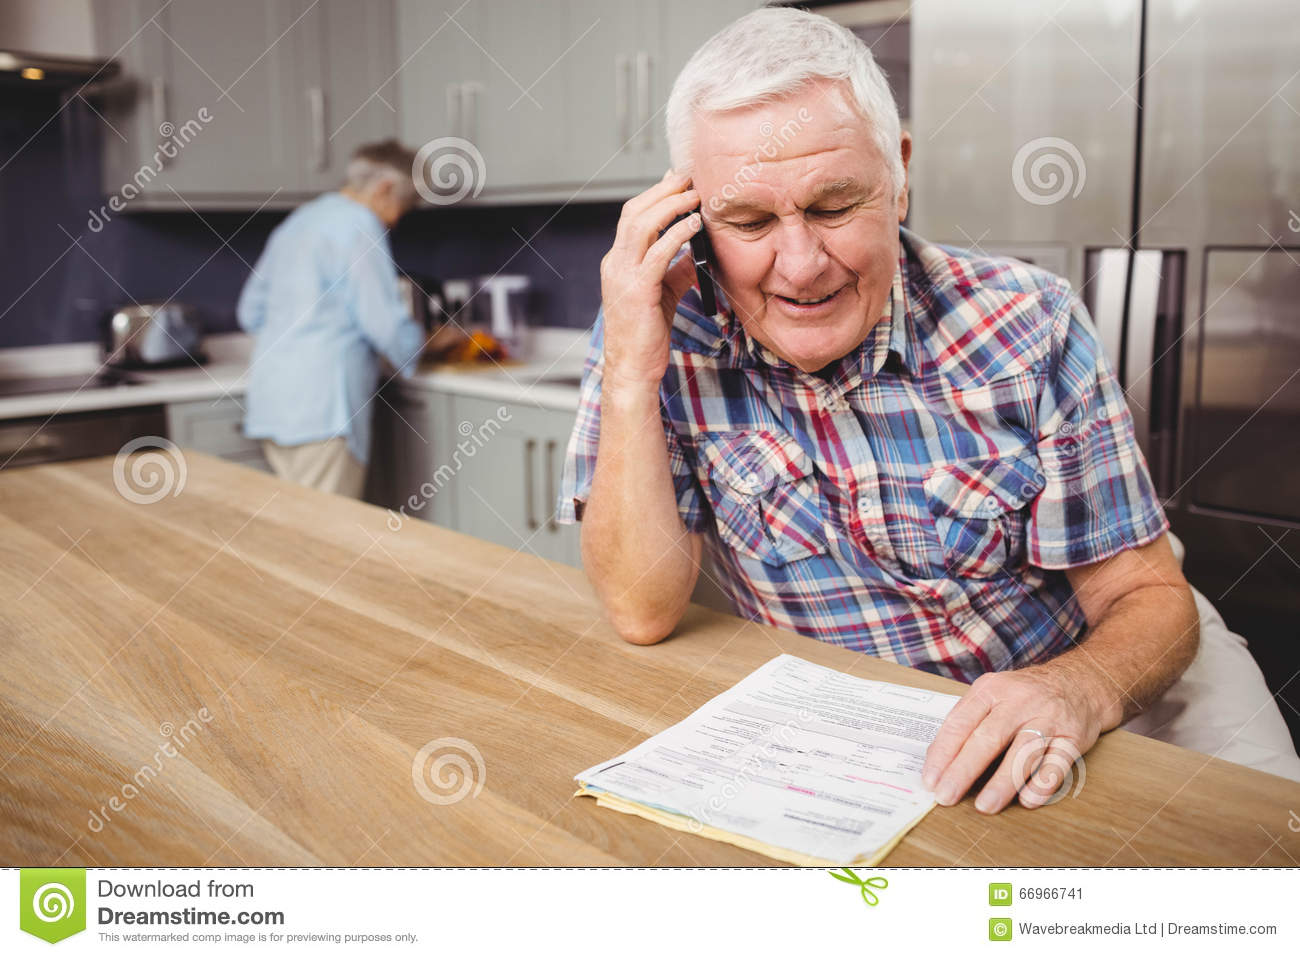phone: (674, 182, 723, 320)
talk: (602, 158, 887, 371)
